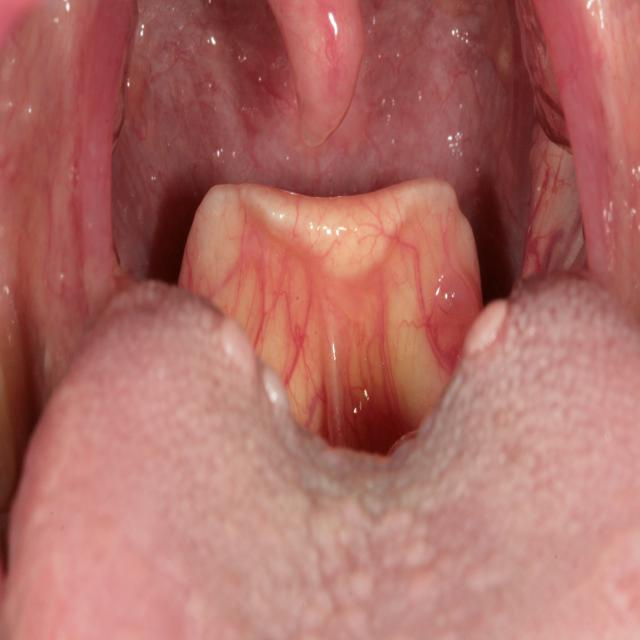epiglottisrotation: (176, 176, 484, 456)
